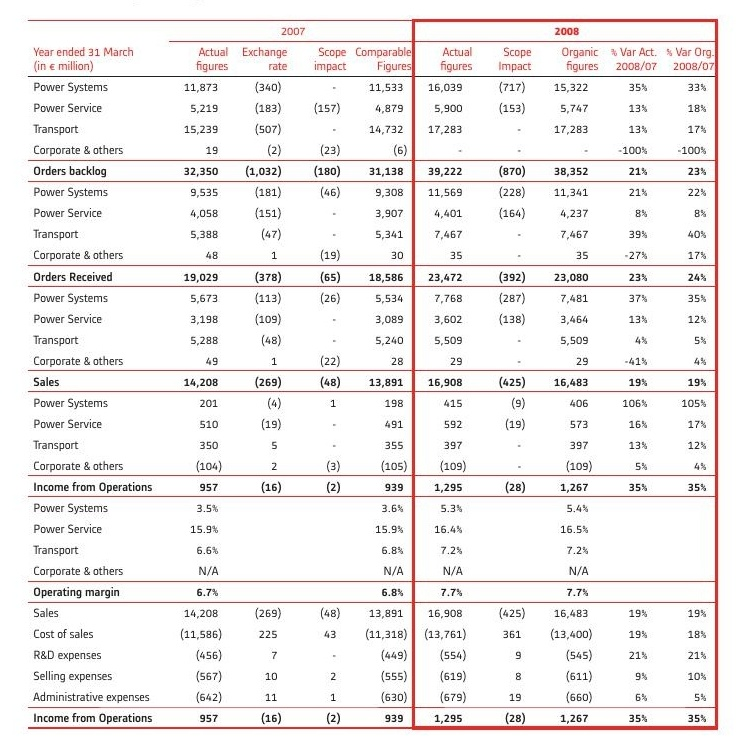table: (0, 0, 741, 747)
